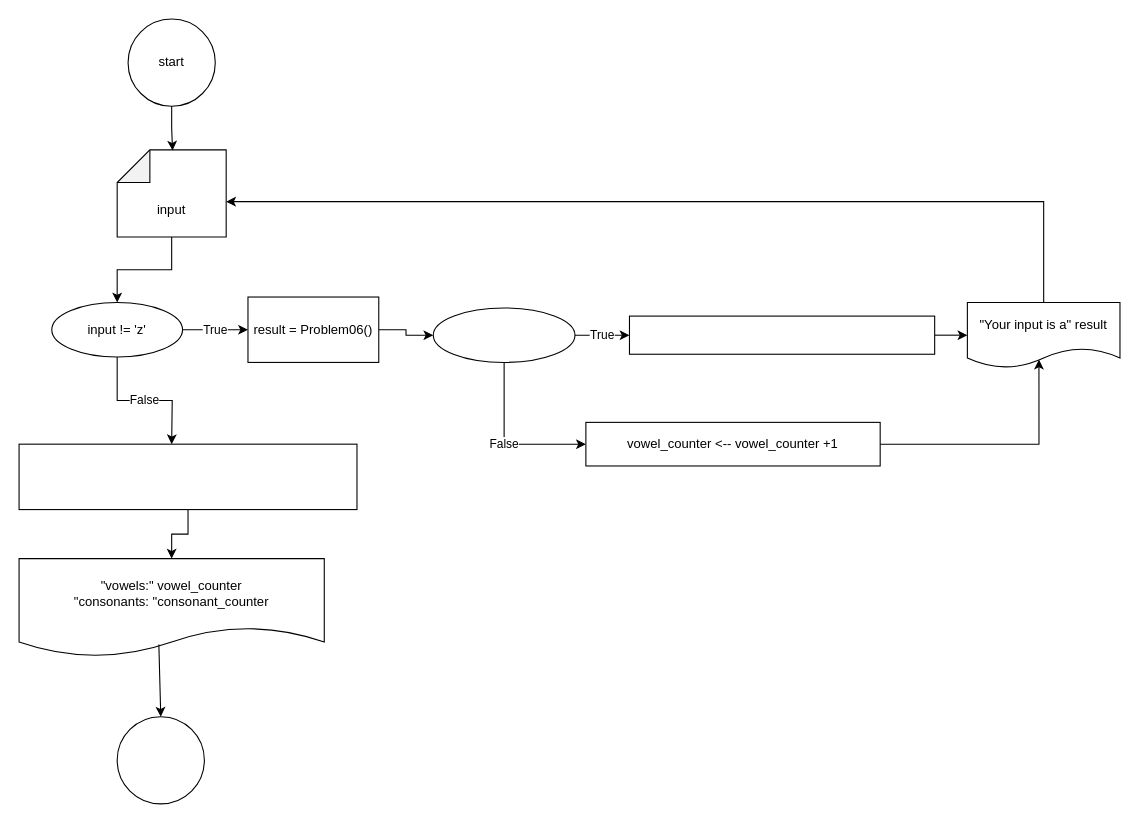
This 1139x823 diagram has some shape labels left out. The centre of each missing label's shape, as x and y in pixels:
consonant_counter <-- consonant_counter +1: (781,334)
document.getElementById("button").disabled = true: (187,476)
end: (160,760)
result == 'consonant': (503,334)
